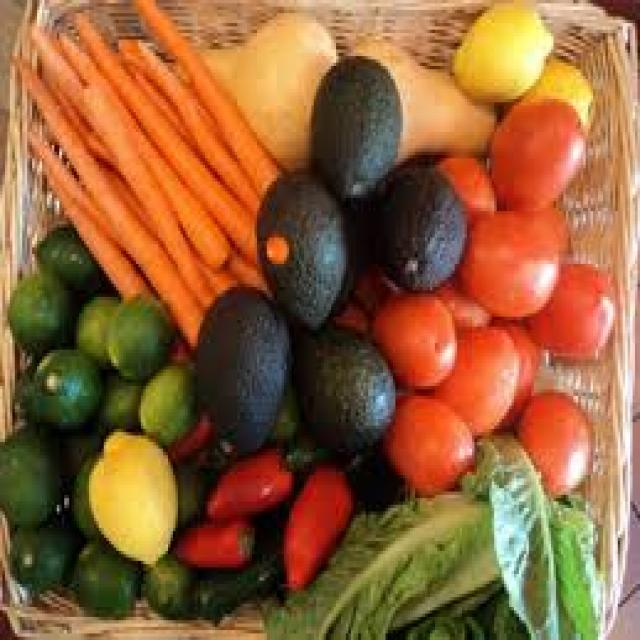organic waste: (15, 53, 200, 340), (72, 7, 257, 254), (59, 30, 225, 264), (260, 488, 504, 637), (460, 416, 606, 636), (79, 72, 210, 304), (130, 0, 279, 191), (178, 7, 334, 168), (136, 36, 259, 215), (343, 30, 492, 158), (195, 280, 289, 456), (254, 162, 351, 326), (306, 52, 401, 204), (289, 320, 393, 455), (44, 162, 148, 290), (84, 426, 175, 568), (487, 92, 583, 208), (371, 165, 462, 287), (447, 0, 553, 102), (455, 202, 551, 314), (277, 462, 353, 587), (383, 389, 474, 492), (428, 323, 516, 429), (509, 386, 591, 495), (114, 30, 192, 142), (368, 284, 452, 386), (27, 122, 109, 224), (529, 261, 615, 356), (202, 435, 292, 518), (193, 531, 279, 617), (28, 26, 96, 132), (0, 422, 67, 525), (482, 313, 536, 429), (104, 290, 173, 380), (5, 508, 79, 584), (25, 347, 99, 422), (72, 541, 143, 617), (3, 270, 74, 346), (136, 356, 193, 442), (516, 56, 590, 122), (27, 224, 99, 290), (170, 518, 250, 567), (69, 290, 121, 363), (435, 152, 494, 211), (65, 449, 102, 541), (346, 257, 398, 320), (141, 548, 188, 614), (94, 363, 138, 429), (440, 277, 492, 330), (175, 455, 215, 521), (479, 577, 522, 637), (163, 409, 210, 459), (405, 607, 482, 637), (10, 347, 37, 422), (544, 205, 576, 258), (225, 247, 264, 287), (59, 422, 96, 459)
